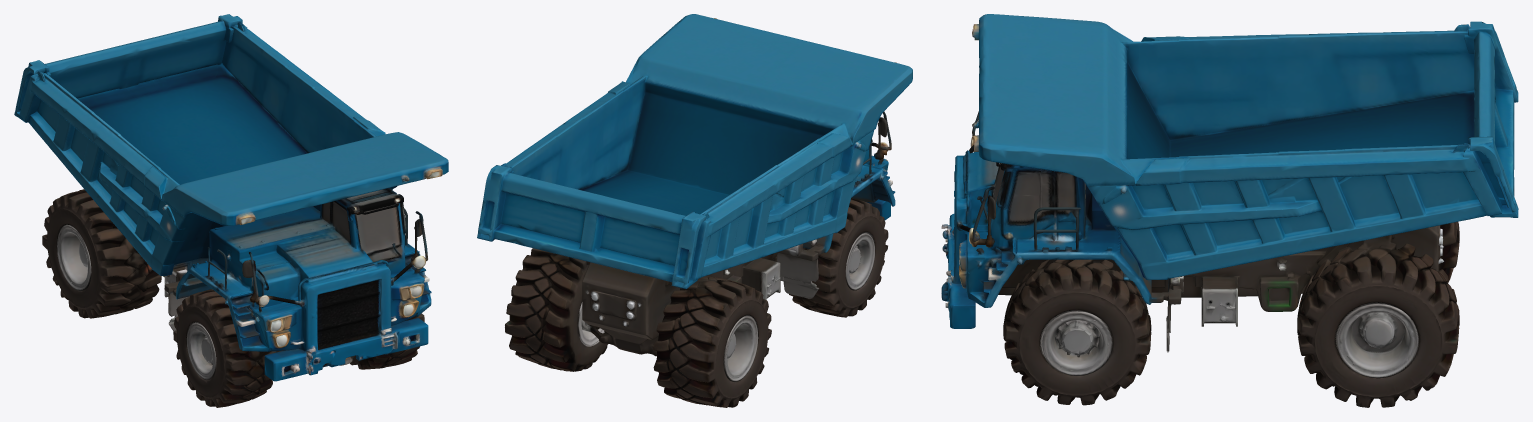
The model's file is haul-truck-pro.glb.
3 renders of one model, left to right at view 1: azimuth 30°, elevation 25°; view 2: azimuth 150°, elevation 25°; view 3: azimuth 270°, elevation 25°, orthographic. The views are drawn at different scales.
Visible parts, largest first — view 1: tripo_node_12cfb12e-6912-4686-8669-a1c6892b39b1; view 2: tripo_node_12cfb12e-6912-4686-8669-a1c6892b39b1; view 3: tripo_node_12cfb12e-6912-4686-8669-a1c6892b39b1.
Boxes of the visible parts, x1,y1,x2,y2 form: tripo_node_12cfb12e-6912-4686-8669-a1c6892b39b1: (14,14,448,407); tripo_node_12cfb12e-6912-4686-8669-a1c6892b39b1: (477,14,912,407); tripo_node_12cfb12e-6912-4686-8669-a1c6892b39b1: (941,14,1518,407).
Bounding box in the file's own units: 3.84 × 3.5 × 6.73.
1 material, 1 textured.
